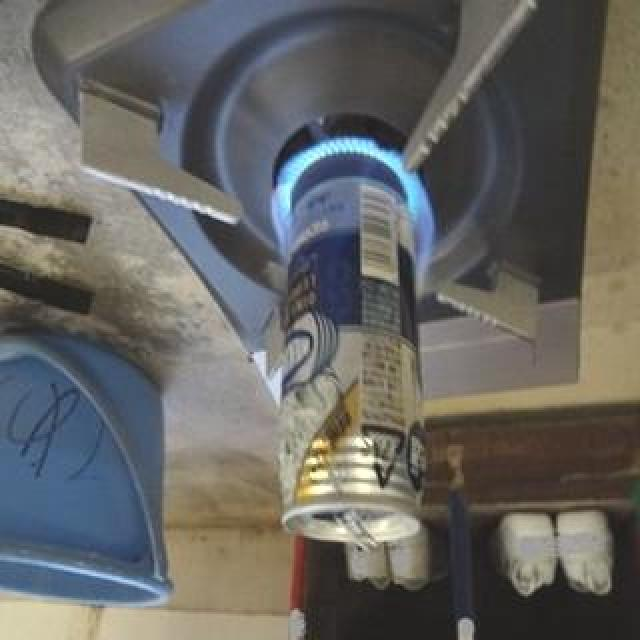Can: (256, 148, 430, 578)
